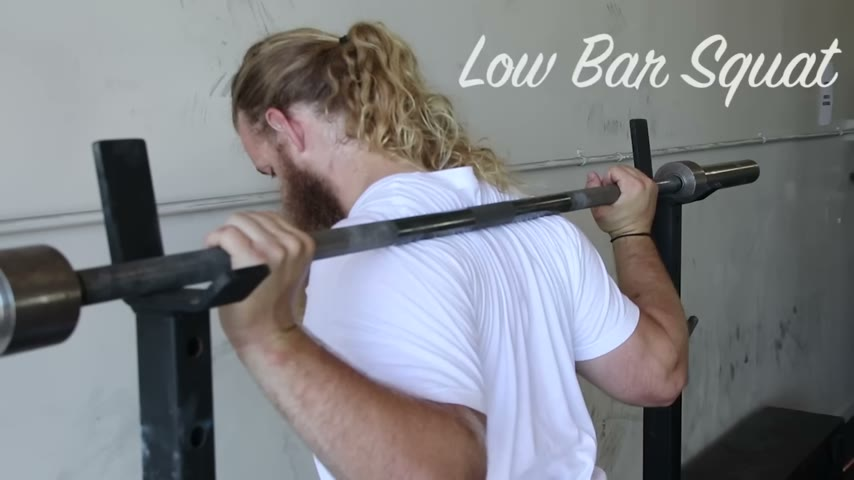barbell_plate_side: (150, 99, 284, 365)
